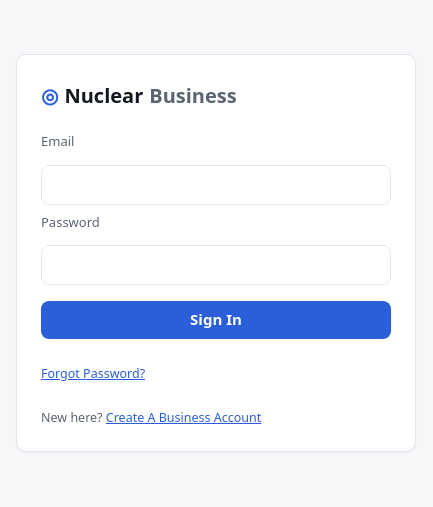
Test: sign-in › returns to sign-in with a notice when the session ends
This screenshot has width=433, height=507.
Type "Cafe@Example.com" into the field labelled "Email" at {"x": 216, "y": 184}, box x1=41 y1=164 x2=391 y2=204
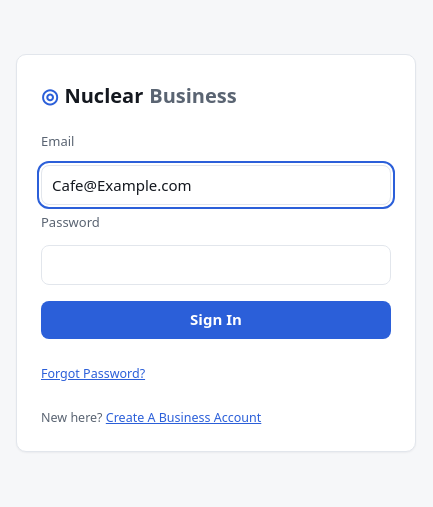
Type "correct horse battery" into the password field labelled "Password" at {"x": 216, "y": 265}, box x1=41 y1=245 x2=391 y2=285
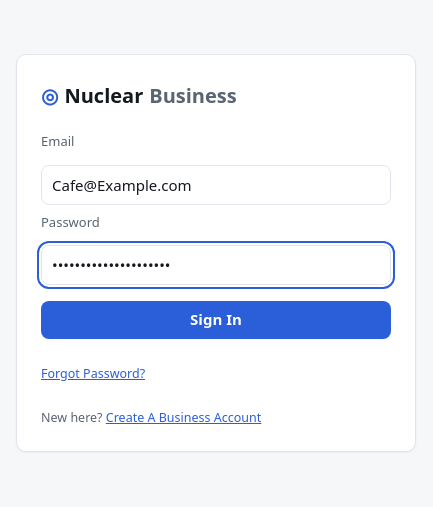
Click the button "Sign In" at {"x": 216, "y": 320}, box x1=41 y1=301 x2=391 y2=339
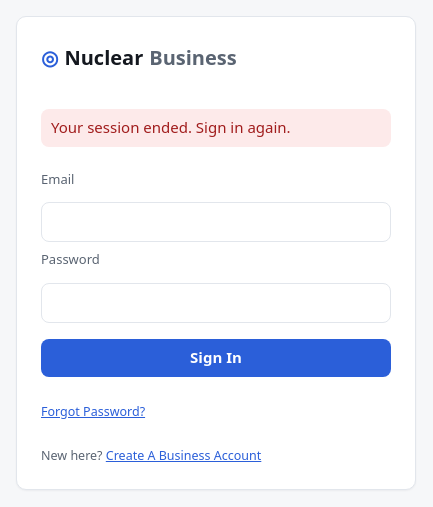
Result: the text "Your session ended. Sign in again." is shown at x1=41 y1=109 x2=391 y2=147
